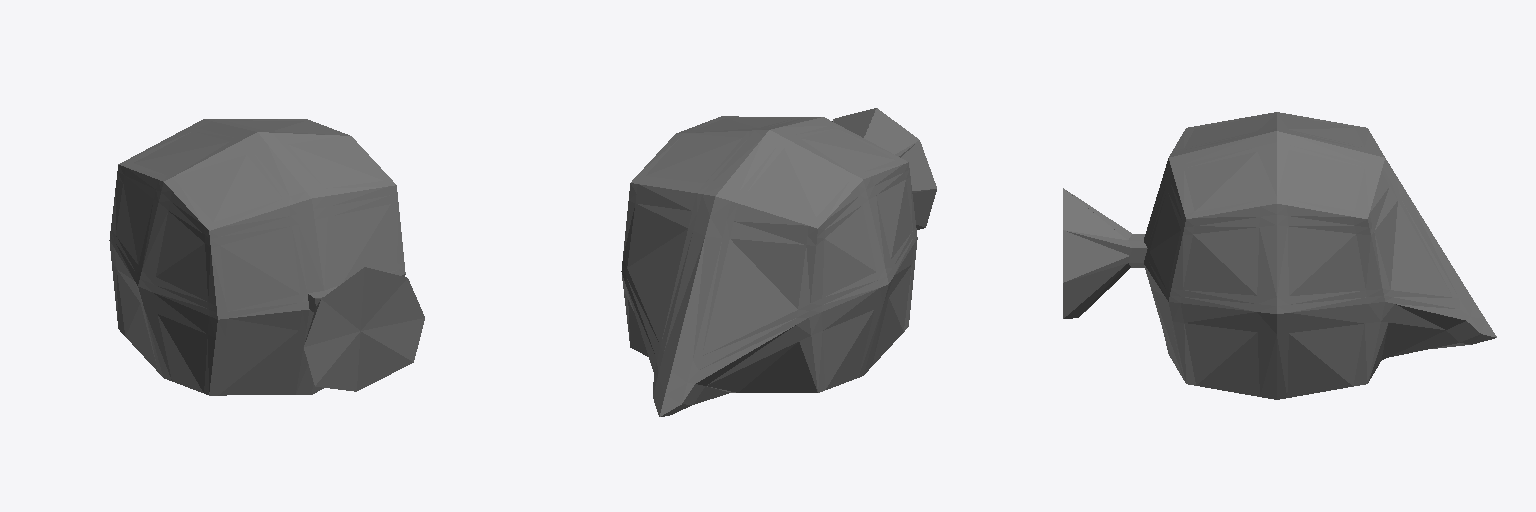
The model's file is wind_blower.obj.
3 renders of one model, left to right at view 1: azimuth 30°, elevation 25°; view 2: azimuth 150°, elevation 25°; view 3: azimuth 270°, elevation 25°, orthographic.
Visible parts, largest first — view 1: wind_blower:pCube5; view 2: wind_blower:pCube5; view 3: wind_blower:pCube5.
Part boxes in pixels (x1,y1,x2,y2): wind_blower:pCube5: (109,119,424,395); wind_blower:pCube5: (621,108,936,416); wind_blower:pCube5: (1063,112,1496,399).
Size of the model in its own units: 80.94 by 80.94 by 128.